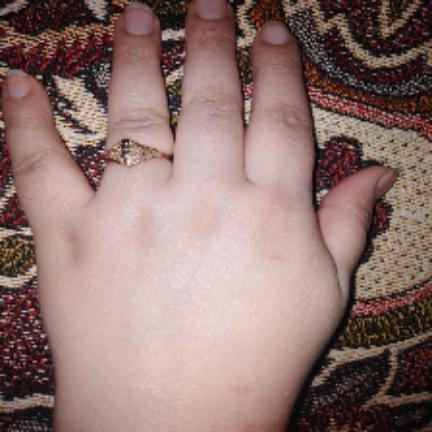Nail: (124, 3, 154, 35), (6, 70, 31, 99), (261, 22, 290, 45), (375, 170, 398, 198), (196, 0, 227, 19)
